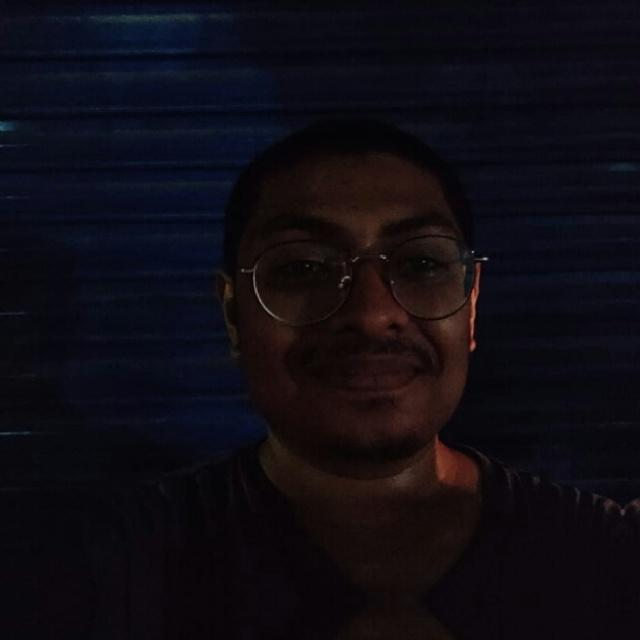Happy: (147, 99, 504, 485)
